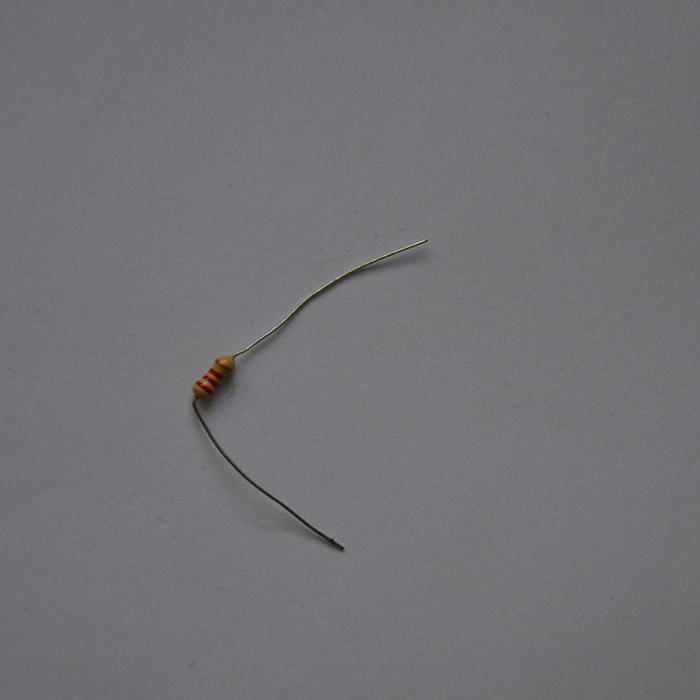resistor: (192, 354, 236, 400)
